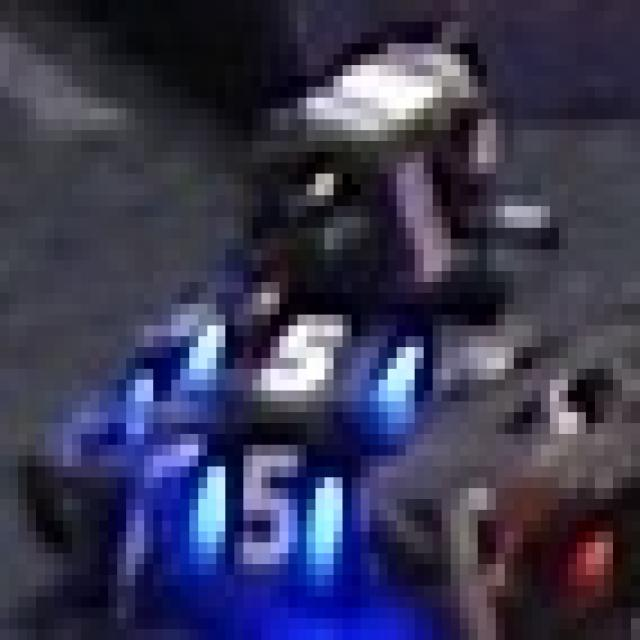B5: (162, 293, 424, 434), (149, 434, 356, 597)
